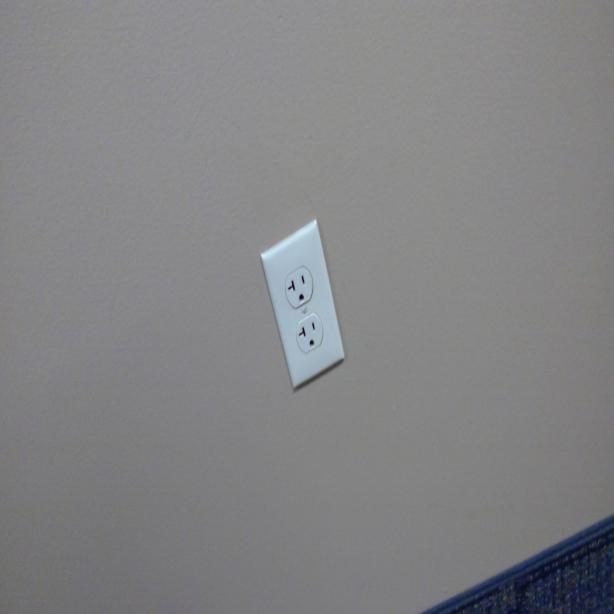typeb: (285, 269, 313, 307), (296, 317, 324, 351)
